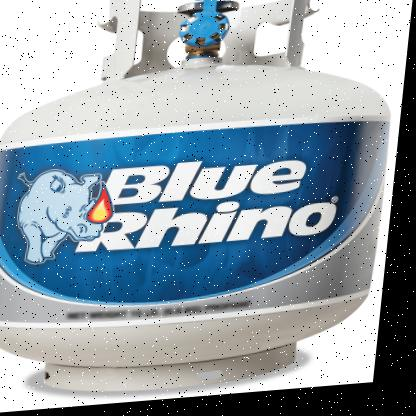gas-tank: (0, 0, 412, 411)
